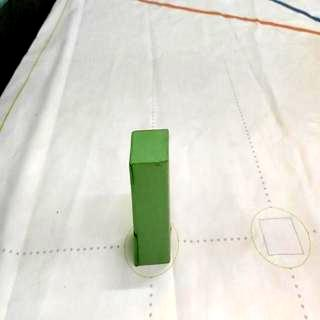greenbox: (130, 127, 172, 266)
